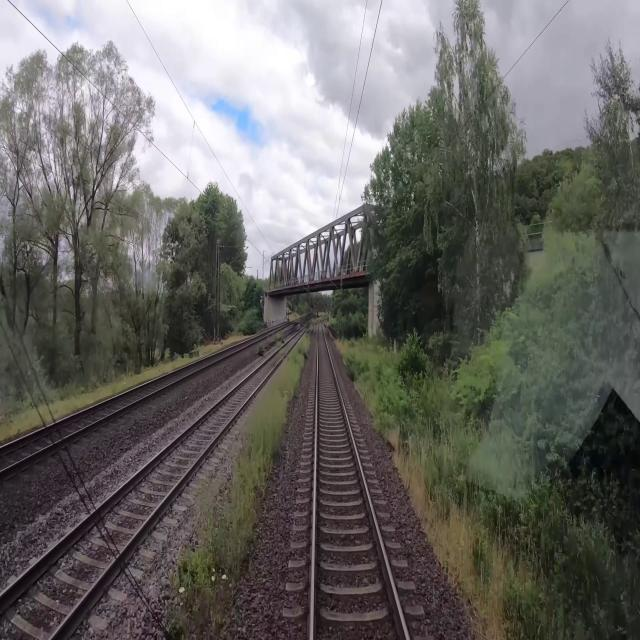Plant: (170, 333, 310, 639)
